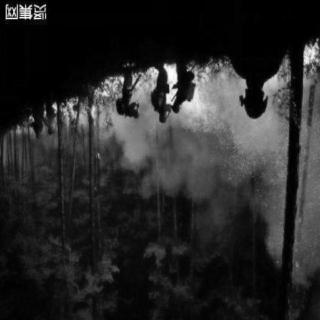Fire: (144, 59, 214, 129), (53, 79, 121, 133), (273, 42, 315, 70)
Smoke: (113, 84, 315, 274)
